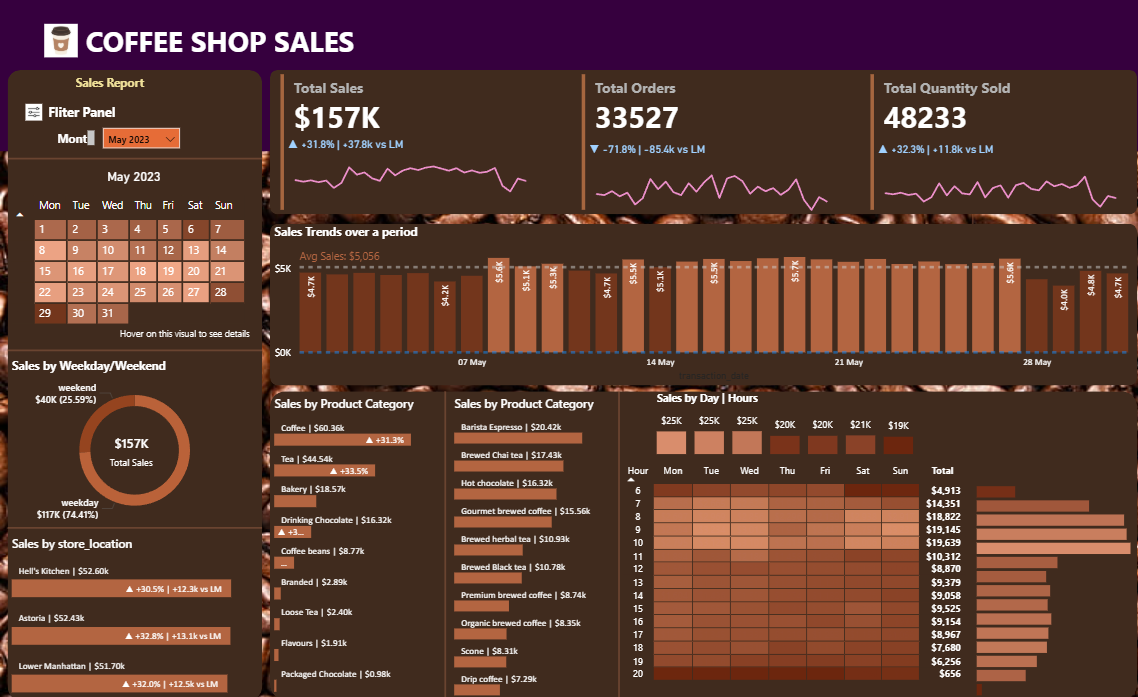

What the dashboard file says about the page in this screenshot:
{"tool":"powerbi","page":{"name":"Page 1","canvas":[1300,800],"ordinal":0},"visuals":[{"type":"shape","box":[1105,0,12,336],"z":0},{"type":"shape","box":[0,0,1450,173],"z":1000},{"type":"shape","box":[8,80,291,720],"z":2000},{"type":"shape","box":[309,80,991,165],"z":3000},{"type":"textbox","box":[93,20,329,53],"z":4000},{"type":"cardVisual","fields":{"Data":["Transactions.Total Sales"]},"box":[316,80,300,165.3],"z":4000,"group":"g1"},{"type":"cardVisual","fields":{"Data":["Transactions.Total Orders"]},"box":[660,80,300,165],"z":4000,"group":"g4"},{"type":"cardVisual","fields":{"Data":["Transactions.Total  Quantity Sold"]},"box":[990,80,300,165],"z":4000,"group":"g3"},{"type":"slicer","fields":{"Values":["Date table.Month Year"]},"box":[113,141,98,34],"z":5000},{"type":"group","id":"g1","title":"Group 1","box":[316,80,300,165],"z":6000},{"type":"lineChart","fields":{"Category":["Date table.Date Hierarchy.Date","Date table.Date.Variation.Date Hierarchy.Year","Date table.Date.Variation.Date Hierarchy.Quarter","Date table.Date.Variation.Date Hierarchy.Month","Date table.Date.Variation.Date Hierarchy.Day"],"Y":["Transactions.Total Sales"]},"box":[322.8,157,293,84],"z":6000,"group":"g1"},{"type":"lineChart","fields":{"Category":["Date table.Date Hierarchy.Date","Date table.Date.Variation.Date Hierarchy.Year","Date table.Date.Variation.Date Hierarchy.Quarter","Date table.Date.Variation.Date Hierarchy.Month","Date table.Date.Variation.Date Hierarchy.Day"],"Y":["Transactions.Total Orders"]},"box":[666.8,163,293,84],"z":6000,"group":"g4"},{"type":"lineChart","fields":{"Category":["Date table.Date Hierarchy.Date","Date table.Date.Variation.Date Hierarchy.Year","Date table.Date.Variation.Date Hierarchy.Quarter","Date table.Date.Variation.Date Hierarchy.Month","Date table.Date.Variation.Date Hierarchy.Day"],"Y":["Transactions.Total  Quantity Sold"]},"box":[996.8,163,293,84],"z":6000,"group":"g3"},{"type":"group","id":"g2","title":"Group 1","box":[660,80,300,167],"z":7000},{"type":"group","id":"g3","title":"Group 2","box":[990,80,300,167],"z":8000},{"type":"pivotTable","fields":{"Rows":["Date table.Wwwk Number"],"Columns":["Date table.Day Name"],"Values":["Min(Date table.Day Number)"]},"box":[8,219,291,174],"z":9000},{"type":"group","id":"g4","title":"Group 2","box":[660,80,300,167],"z":9003,"group":"g2"},{"type":"card","fields":{"Values":["Min(Date table.Month Year)"]},"box":[113,188,81,28],"z":10000},{"type":"card","fields":{"Values":["Transactions.Foot Note"]},"box":[131,367,160,23],"z":11000},{"type":"shape","box":[8,594,291,18],"z":12000},{"type":"shape","box":[8,174,291,14],"z":13000},{"type":"donutChart","title":"Sales by Weekday/Weekend","fields":{"Category":["Date table.Weekday/Weekend"],"Y":["Transactions.Total Sales"]},"box":[8,408,291,195],"z":14000},{"type":"card","fields":{"Values":["Transactions.Total Sales"]},"box":[113,487,75,56],"z":15000},{"type":"shape","box":[8,391,291,18],"z":16000},{"type":"clusteredBarChart","title":"Sales by store_location","fields":{"Category":["Transactions.store_location"],"Y":["Transactions.Placeholder","Transactions.Total Sales"]},"box":[8,612,286,188],"z":17000},{"type":"shape","box":[309,255,991,185],"z":18000},{"type":"columnChart","title":"Sales Trends over a period","fields":{"Category":["Transactions.transaction_date"],"Y":["Transactions.Total Sales"]},"box":[309,255,991,185],"z":19000},{"type":"shape","box":[309,447,991,353],"z":20000},{"type":"clusteredBarChart","title":"Sales by Product Category","fields":{"Y":["Transactions.Placeholder","Transactions.Total Sales"],"Category":["Transactions.product_category"]},"box":[309,451,193.7,345],"z":20000,"group":"g6"},{"type":"group","id":"g5","title":"Group 4","box":[309,447,802,353],"z":21000},{"type":"clusteredBarChart","title":"Sales by Product Category","fields":{"Y":["Transactions.Placeholder","Transactions.Total Sales"],"Category":["Transactions.product_type"]},"box":[515,451,186,349],"z":21000,"group":"g6"},{"type":"shape","box":[502.7,447,12,353],"z":22000,"group":"g6"},{"type":"barChart","fields":{"Category":["Transactions.Hour"],"Y":["Transactions.Total Sales"]},"box":[1111,543,189,257],"z":22000},{"type":"columnChart","title":"Sales by Day | Hours","fields":{"Y":["Transactions.Total Sales"],"Category":["Date table.Day Name"]},"box":[746,447,304,78],"z":23000},{"type":"pivotTable","fields":{"Rows":["Transactions.Hour"],"Columns":["Date table.Day Name"],"Values":["Transactions.Total Sales"]},"box":[707.5,525,403.5,275],"z":23000,"group":"g5"},{"type":"textbox","box":[60,144,53,27],"z":23001},{"type":"textbox","box":[82,80,112,36],"z":23002},{"type":"textbox","box":[50,113,101,30],"z":23003},{"type":"image","box":[24,111,29,34],"z":23004},{"type":"image","box":[46,20,48,53],"z":23005},{"type":"shape","box":[701.5,447,12,353],"z":24001,"group":"g6"},{"type":"group","id":"g6","title":"Group 3","box":[309,447,404.5,353],"z":24002,"group":"g5"}]}

Visuals, with their boxes in screenshot pixels (x1, y1, x2, y2), scaled from the page's 1300x800 canvas onto the 1138x697 screenshot:
shape: bbox(967, 0, 978, 293)
shape: bbox(0, 0, 1137, 151)
shape: bbox(7, 70, 262, 696)
shape: bbox(270, 70, 1137, 213)
textbox: bbox(81, 17, 369, 64)
cardVisual - Transactions.Total Sales: bbox(277, 70, 539, 214)
cardVisual - Transactions.Total Orders: bbox(578, 70, 840, 213)
cardVisual - Transactions.Total  Quantity Sold: bbox(867, 70, 1129, 213)
slicer - Date table.Month Year: bbox(99, 123, 185, 152)
"Group 1" group: bbox(277, 70, 539, 213)
lineChart - Date table.Date Hierarchy.Date x Date table.Date.Variation.Date Hierarchy.Year: bbox(283, 137, 539, 210)
lineChart - Date table.Date Hierarchy.Date x Date table.Date.Variation.Date Hierarchy.Year: bbox(584, 142, 840, 215)
lineChart - Date table.Date Hierarchy.Date x Date table.Date.Variation.Date Hierarchy.Year: bbox(873, 142, 1129, 215)
"Group 1" group: bbox(578, 70, 840, 215)
"Group 2" group: bbox(867, 70, 1129, 215)
pivotTable - Date table.Wwwk Number x Date table.Day Name: bbox(7, 191, 262, 342)
"Group 2" group: bbox(578, 70, 840, 215)
card - Min(Date table.Month Year): bbox(99, 164, 170, 188)
card - Transactions.Foot Note: bbox(115, 320, 255, 340)
shape: bbox(7, 518, 262, 533)
shape: bbox(7, 152, 262, 164)
"Sales by Weekday/Weekend" donutChart: bbox(7, 355, 262, 525)
card - Transactions.Total Sales: bbox(99, 424, 165, 473)
shape: bbox(7, 341, 262, 356)
"Sales by store_location" clusteredBarChart: bbox(7, 533, 257, 696)
shape: bbox(270, 222, 1137, 383)
"Sales Trends over a period" columnChart: bbox(270, 222, 1137, 383)
shape: bbox(270, 389, 1137, 696)
"Sales by Product Category" clusteredBarChart: bbox(270, 393, 440, 694)
"Group 4" group: bbox(270, 389, 973, 696)
"Sales by Product Category" clusteredBarChart: bbox(451, 393, 614, 696)
shape: bbox(440, 389, 451, 696)
barChart - Transactions.Hour x Transactions.Total Sales: bbox(973, 473, 1137, 696)
"Sales by Day | Hours" columnChart: bbox(653, 389, 919, 457)
pivotTable - Transactions.Hour x Date table.Day Name: bbox(619, 457, 973, 696)
textbox: bbox(53, 125, 99, 149)
textbox: bbox(72, 70, 170, 101)
textbox: bbox(44, 98, 132, 125)
image: bbox(21, 97, 46, 126)
image: bbox(40, 17, 82, 64)
shape: bbox(614, 389, 625, 696)
"Group 3" group: bbox(270, 389, 625, 696)
